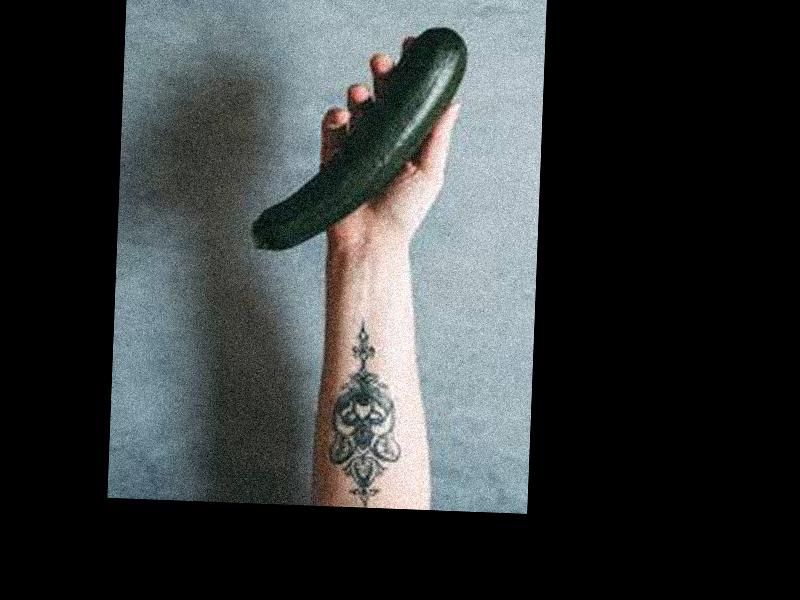Cucumber: (252, 20, 467, 256)
